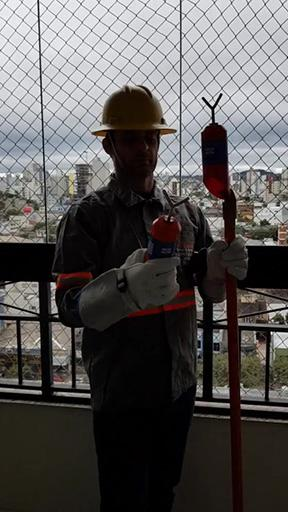Detector_Tensao_Contato: (147, 190, 190, 273), (201, 93, 232, 200)
Vara_Manobra: (221, 194, 246, 512)
